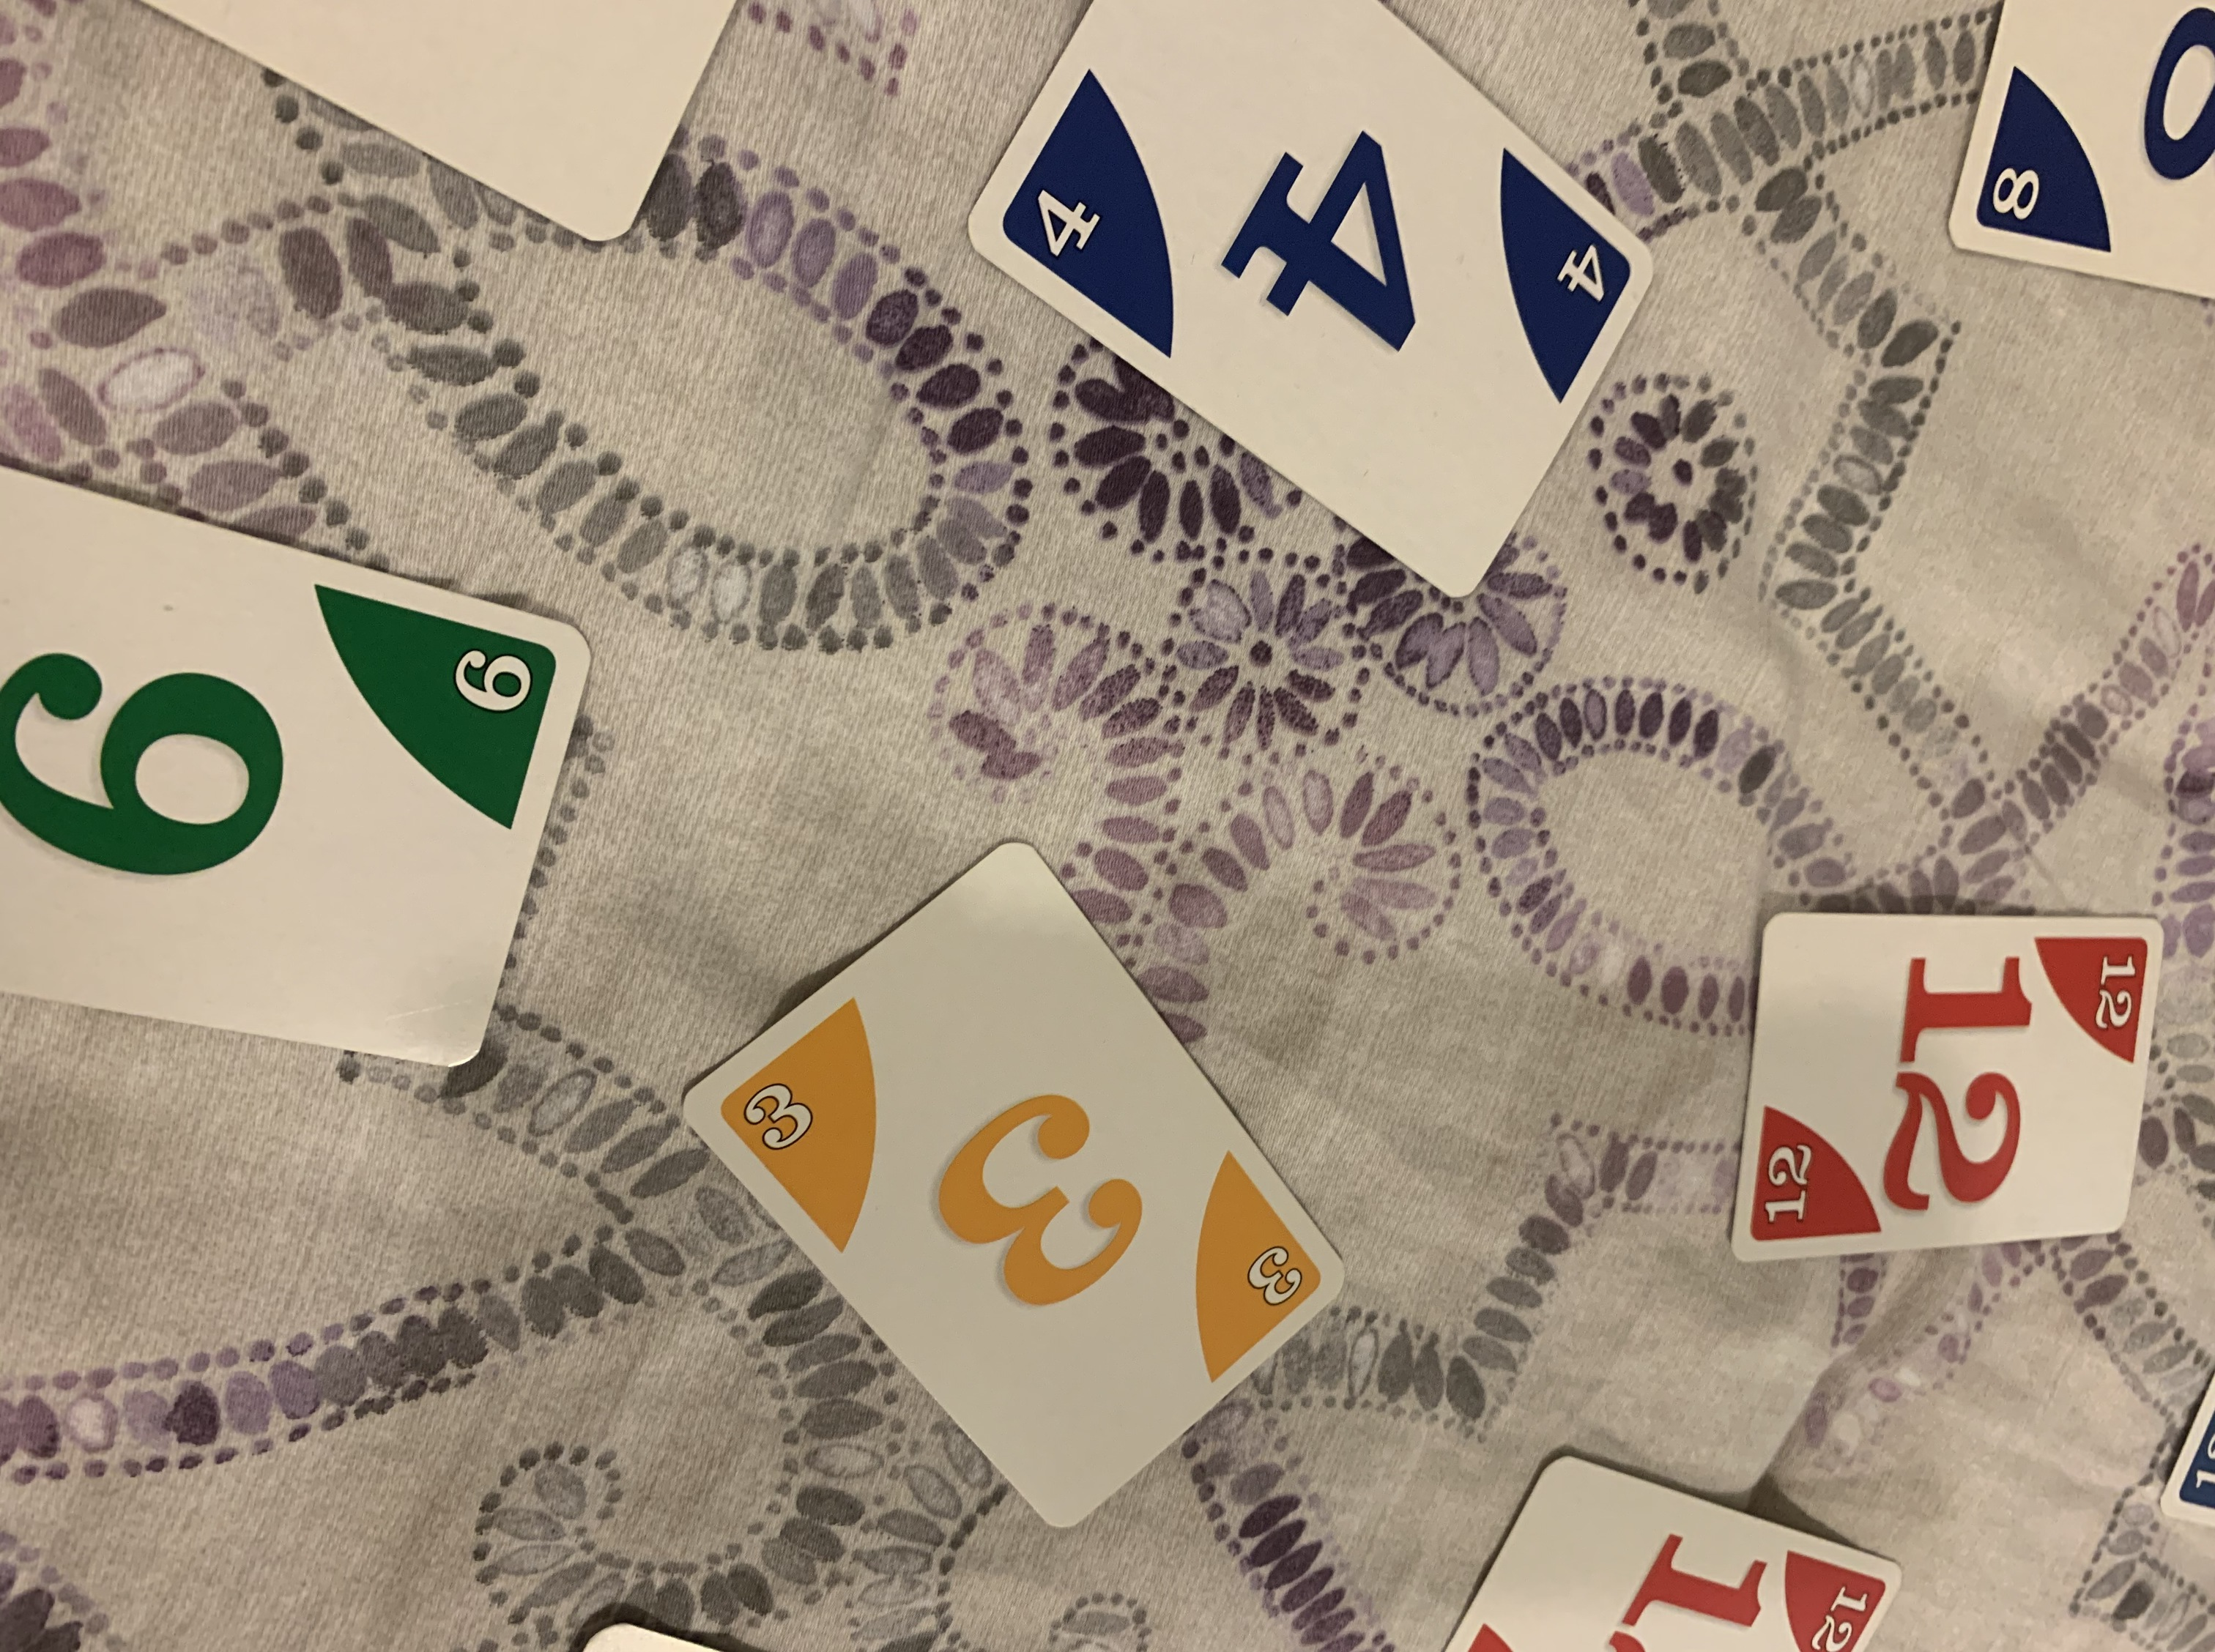four: (974, 0, 1661, 607)
six: (0, 444, 599, 1072)
three: (674, 838, 1347, 1539)
twelve: (1732, 904, 2173, 1270)
